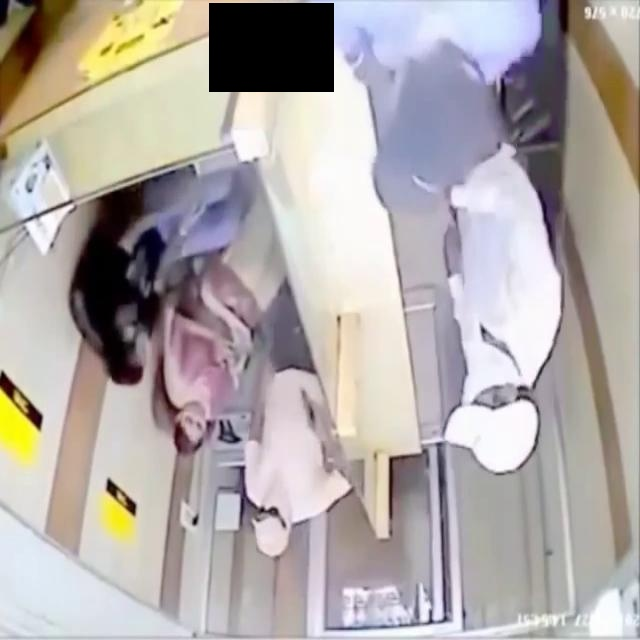gun: (300, 383, 318, 436)
